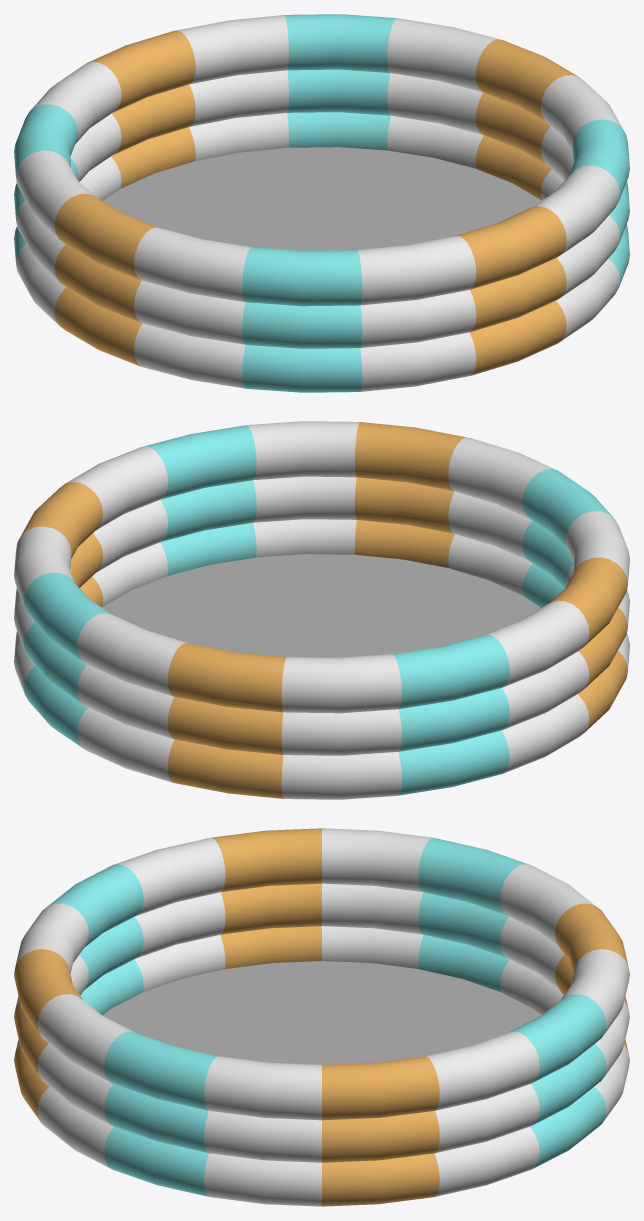
File: pool.fbx
The picture shows the model from 3 angles, top to bottom: view 1: azimuth 30°, elevation 25°; view 2: azimuth 150°, elevation 25°; view 3: azimuth 270°, elevation 25°; orthographic projection.
Visible parts, largest first — view 1: pCylinder2; view 2: pCylinder2; view 3: pCylinder2.
Boxes of the visible parts, x1,y1,x2,y2 form: pCylinder2: (14,14,629,392); pCylinder2: (14,421,629,799); pCylinder2: (14,828,629,1206).
Bounding box in the file's own units: 7.28 × 1.79 × 7.28.
